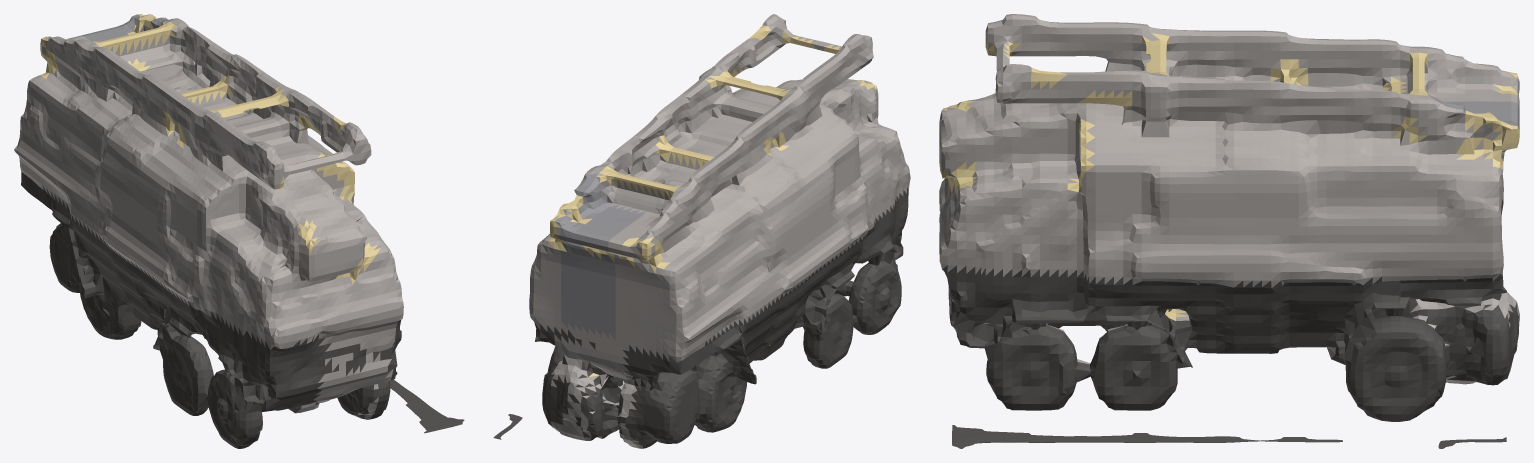
The model's file is unit_scrap_hauler.glb.
3 views of the same model, side by side, from view 1: azimuth 30°, elevation 25°; view 2: azimuth 150°, elevation 25°; view 3: azimuth 270°, elevation 25° (orthographic). The views are drawn at different scales.
Visible parts, largest first — view 1: Mesh_0.037; view 2: Mesh_0.037; view 3: Mesh_0.037.
Part boxes in pixels (bbox=[...]): Mesh_0.037: bbox=[14, 14, 464, 448]; Mesh_0.037: bbox=[493, 14, 910, 448]; Mesh_0.037: bbox=[939, 14, 1519, 448].
Bounding box in the file's own units: 2.2 × 2.83 × 4.4.
